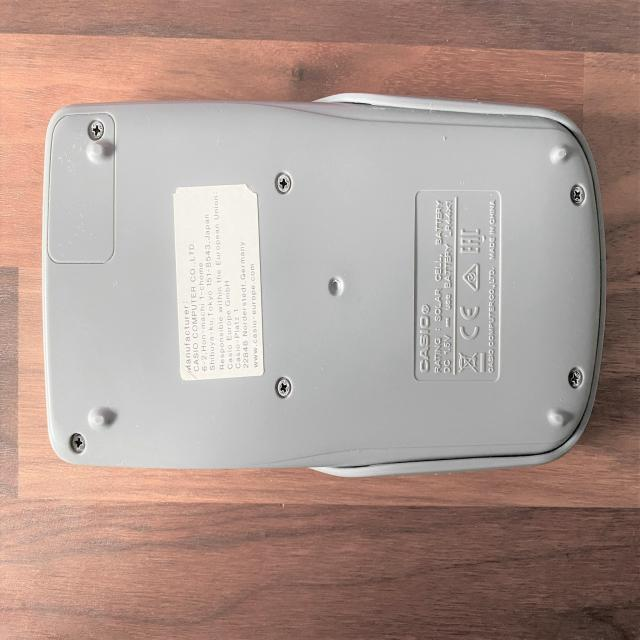PhillipsScrewHead: (570, 184, 585, 206), (277, 173, 291, 194), (72, 432, 85, 454), (90, 120, 104, 140), (276, 378, 291, 396), (569, 370, 583, 388)
